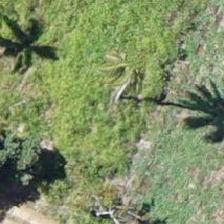coconut_tree: (83, 37, 173, 127)
